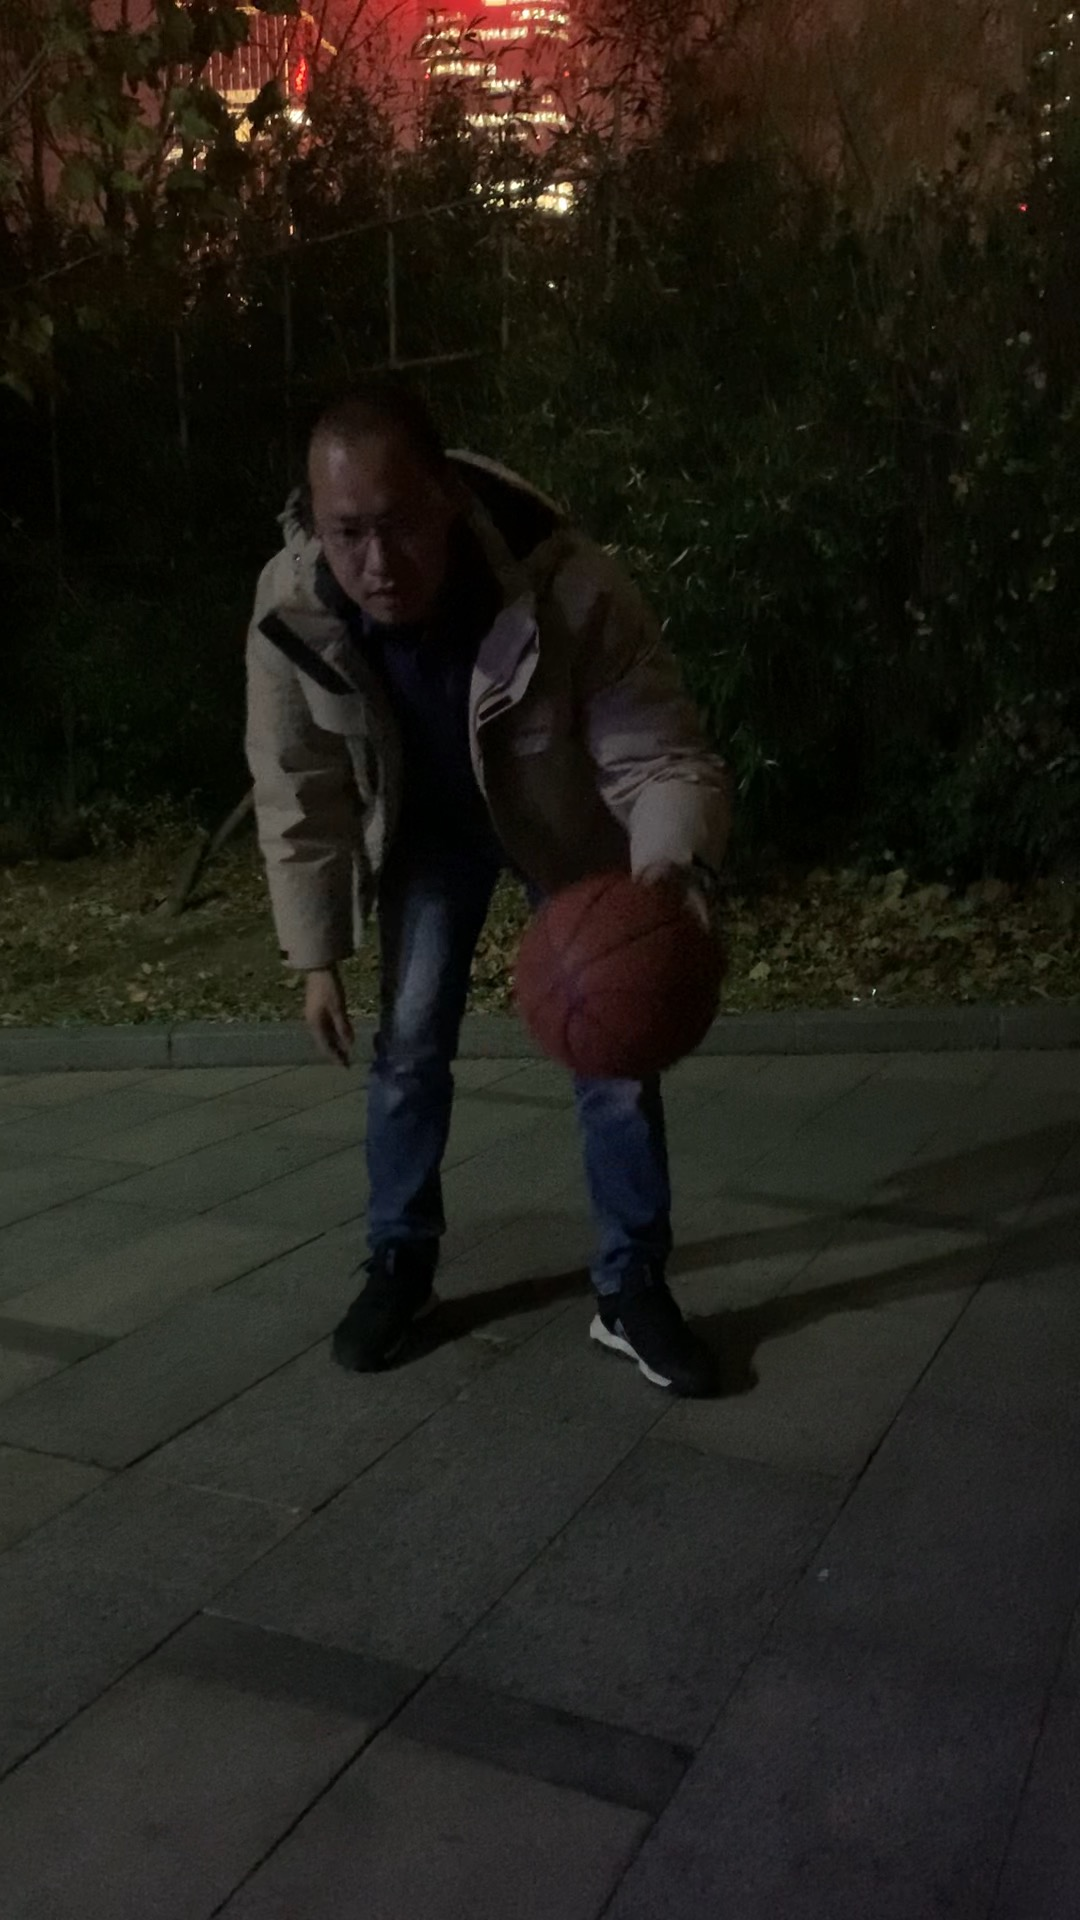ball: (520, 868, 724, 1080)
